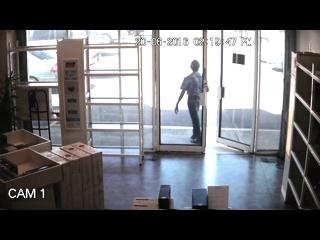Normal: (174, 60, 208, 144)
